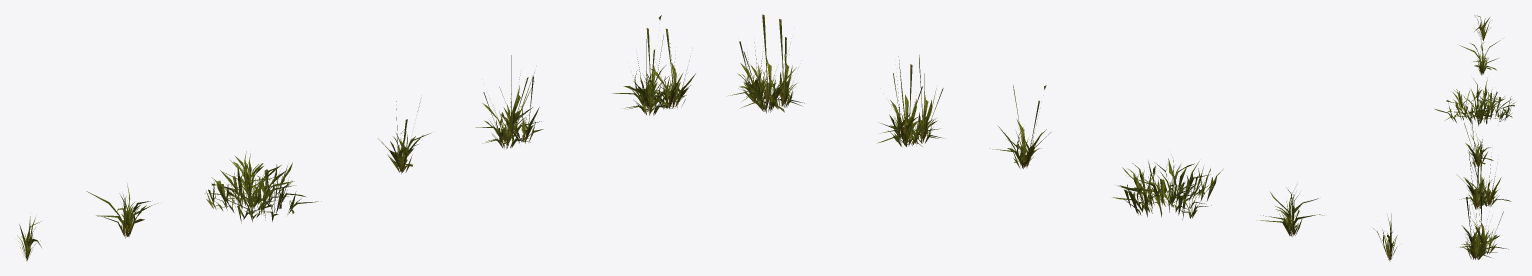
The model's file is grass.glb.
The picture shows the model from 3 angles, left to right: view 1: azimuth 30°, elevation 25°; view 2: azimuth 150°, elevation 25°; view 3: azimuth 270°, elevation 25°; orthographic projection. The views are drawn at different scales.
Parts seen in each view (by area): view 1: MT_PM_V60_Setaria_viridis_beauv_01_01_MT_PM_V60_Setaria_viri; view 2: MT_PM_V60_Setaria_viridis_beauv_01_01_MT_PM_V60_Setaria_viri; view 3: MT_PM_V60_Setaria_viridis_beauv_01_01_MT_PM_V60_Setaria_viri.
Boxes of the visible parts, x1,y1,x2,y2 form: MT_PM_V60_Setaria_viridis_beauv_01_01_MT_PM_V60_Setaria_viri: [17, 15, 695, 260]; MT_PM_V60_Setaria_viridis_beauv_01_01_MT_PM_V60_Setaria_viri: [728, 14, 1397, 261]; MT_PM_V60_Setaria_viridis_beauv_01_01_MT_PM_V60_Setaria_viri: [1434, 15, 1515, 259].
Size of the model in its own units: 2.12 by 0.2853 by 0.3279.
Materials: 1 (1 with a texture image).
